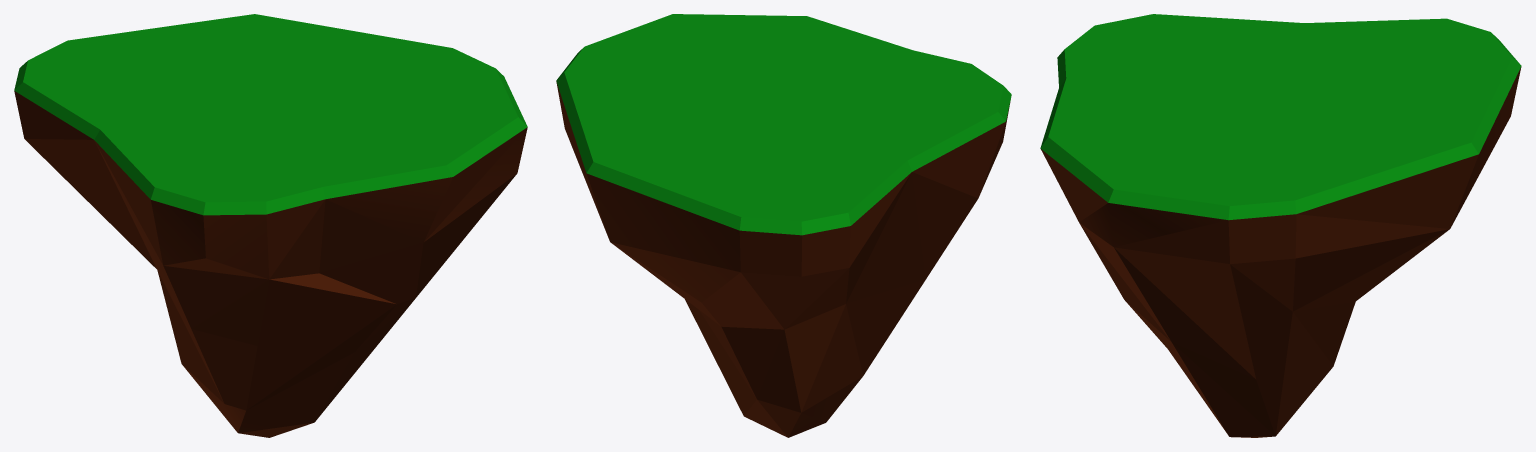
File: FloatingIsland_2.fbx
3 views of the same model, side by side, from view 1: azimuth 30°, elevation 25°; view 2: azimuth 150°, elevation 25°; view 3: azimuth 270°, elevation 25° (orthographic). The views are drawn at different scales.
Parts seen in each view (by area): view 1: FloatingIsland_2; view 2: FloatingIsland_2; view 3: FloatingIsland_2.
Boxes of the visible parts, bbox=[...] form: FloatingIsland_2: bbox=[14, 14, 527, 437]; FloatingIsland_2: bbox=[556, 14, 1011, 437]; FloatingIsland_2: bbox=[1040, 14, 1521, 437].
Size of the model in its own units: 1678 by 1339 by 1713.
